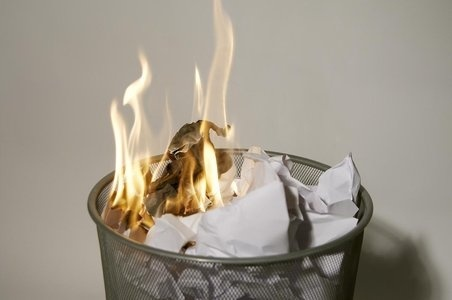fire: (106, 7, 247, 223)
